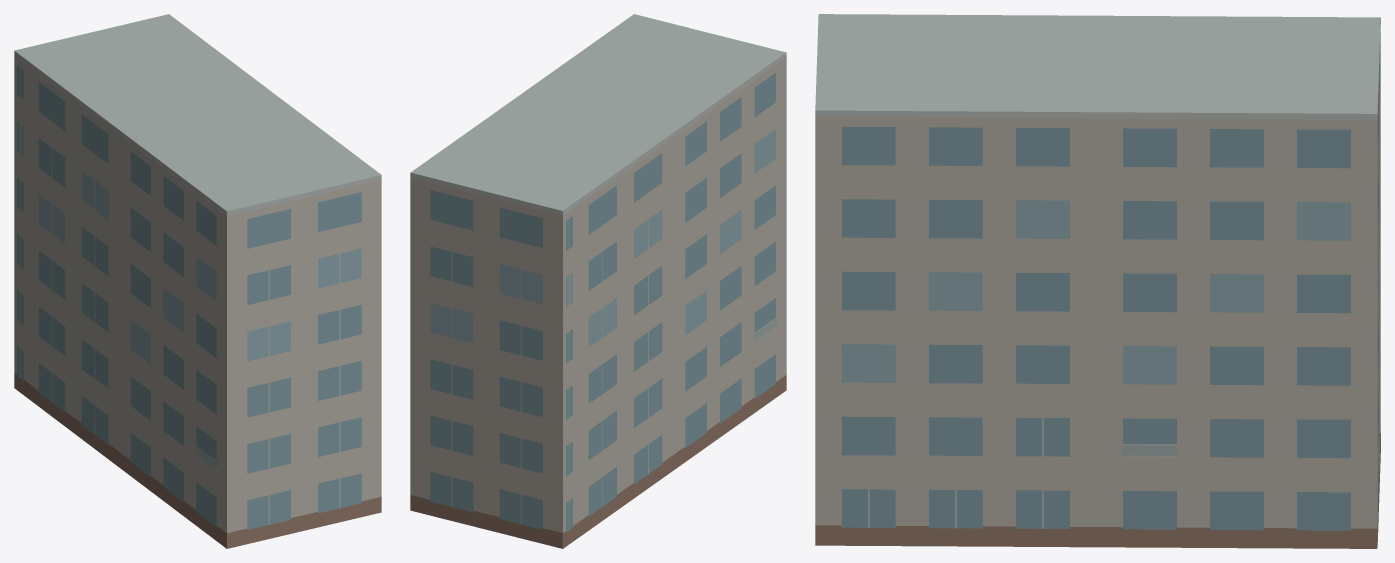
The model's file is survey-upis-32931971.glb.
The picture shows the model from 3 angles, left to right: view 1: azimuth 30°, elevation 25°; view 2: azimuth 150°, elevation 25°; view 3: azimuth 270°, elevation 25°; orthographic projection. The views are drawn at different scales.
Visible parts, largest first — view 1: survey-upis-32931971.tmp; view 2: survey-upis-32931971.tmp; view 3: survey-upis-32931971.tmp.
Part boxes in pixels (<box>): survey-upis-32931971.tmp: <box>14,14,381,548</box>; survey-upis-32931971.tmp: <box>410,14,786,548</box>; survey-upis-32931971.tmp: <box>815,14,1380,548</box>.
Size of the model in its own units: 8.3 by 16.8 by 19.8.
